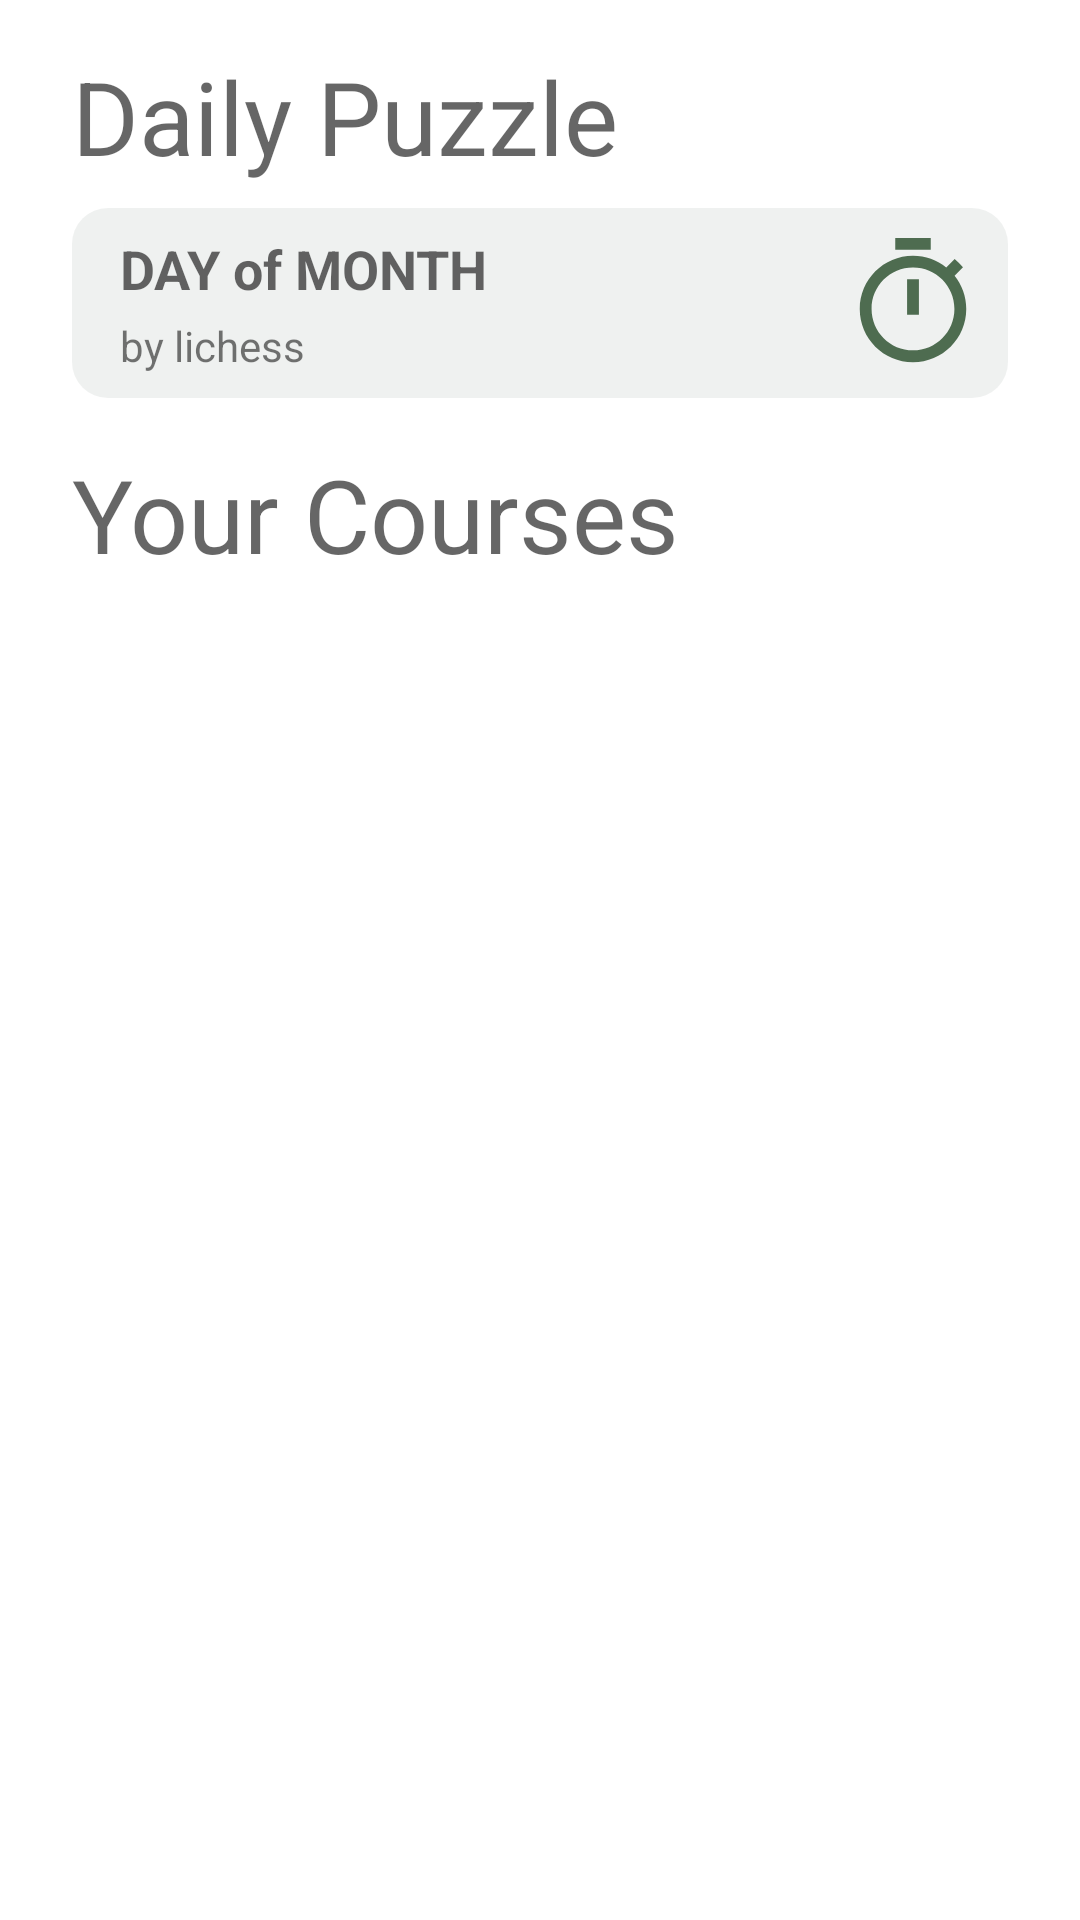

Icon bounding boxes for this 1080w x 1920h phone screenshot, format [x1=x1, y1=y1, x2=x2, y2=y2]:
timer: [x1=859, y1=238, x2=967, y2=363]
